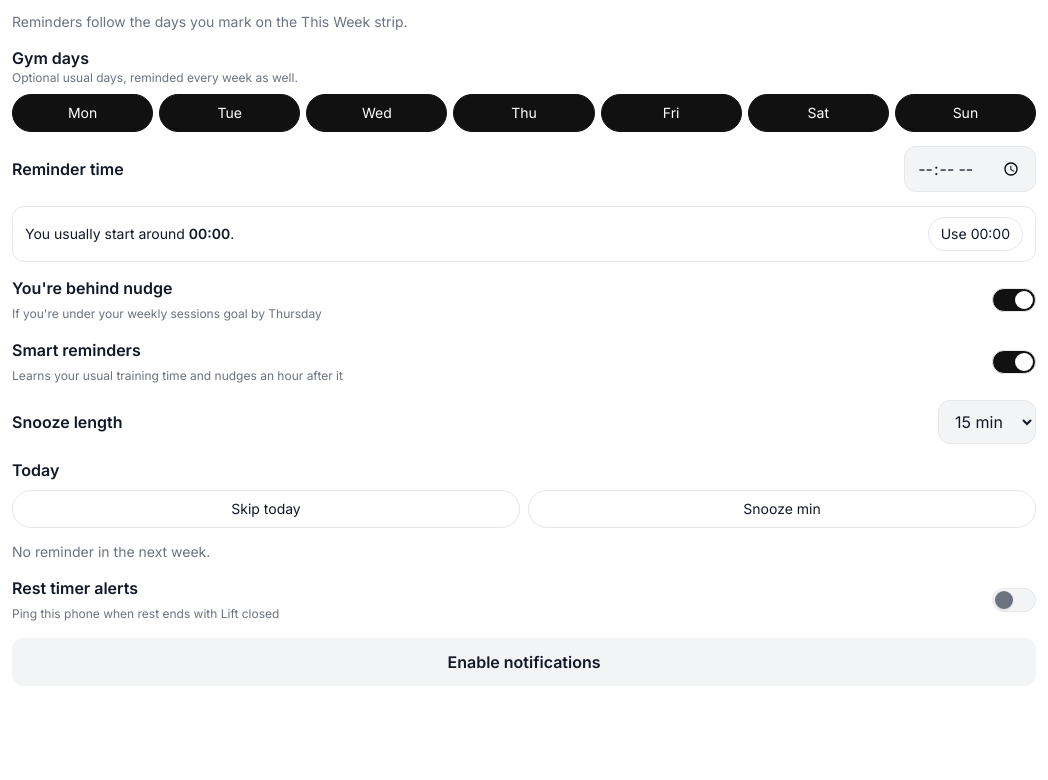
Test case: ReminderSettings push toggle › explains denied
Click the button "Enable notifications" at coordinates (524, 662), box x1=12 y1=638 x2=1036 y2=686
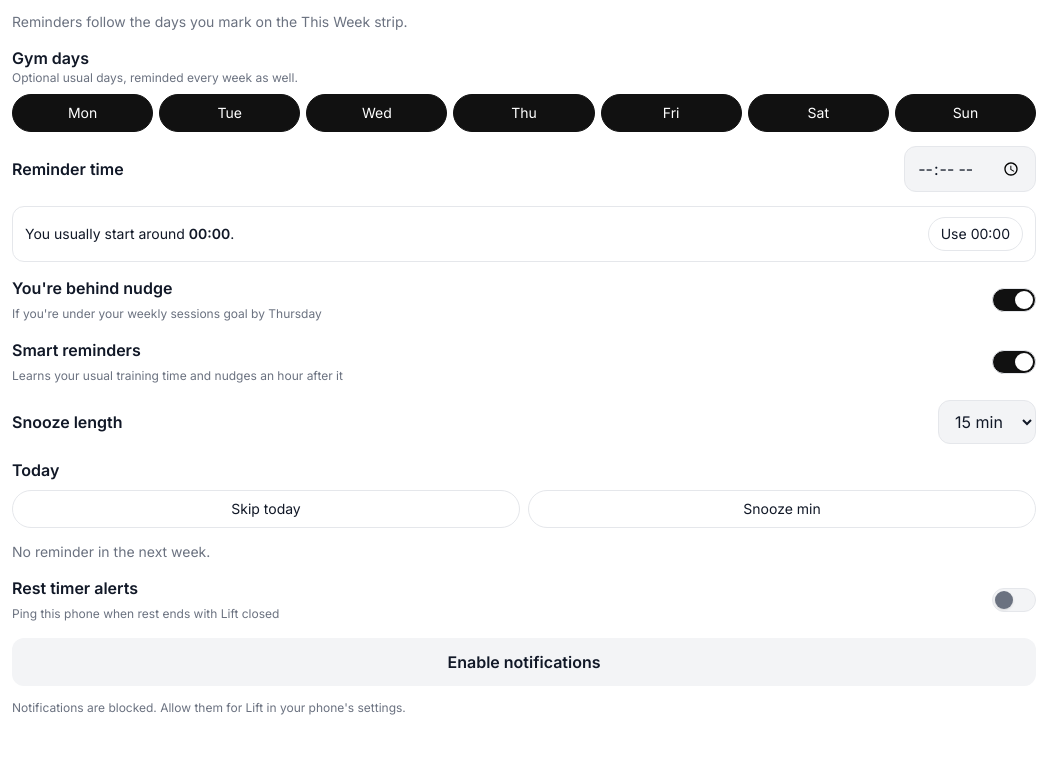
Result: the message reads "Notifications are blocked. Allow them for Lift in your phone's settings." at x1=12 y1=700 x2=406 y2=715
